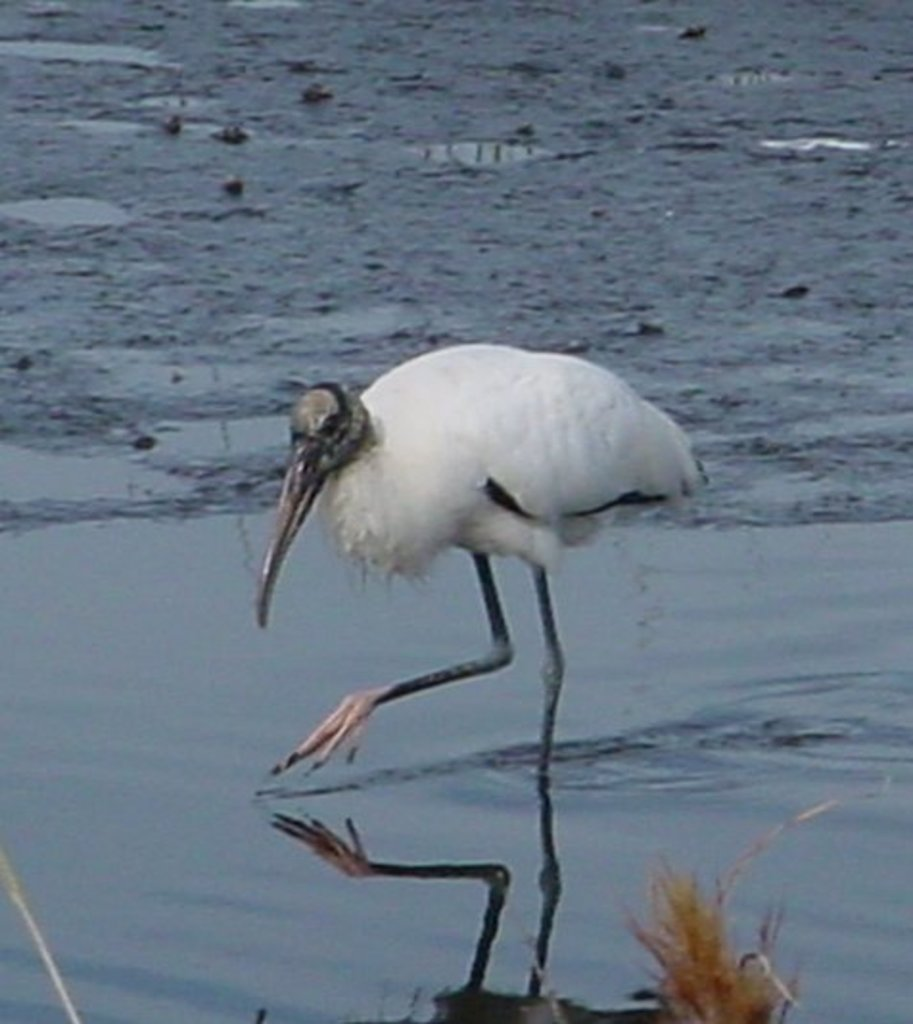Bird: (253, 343, 710, 775)
